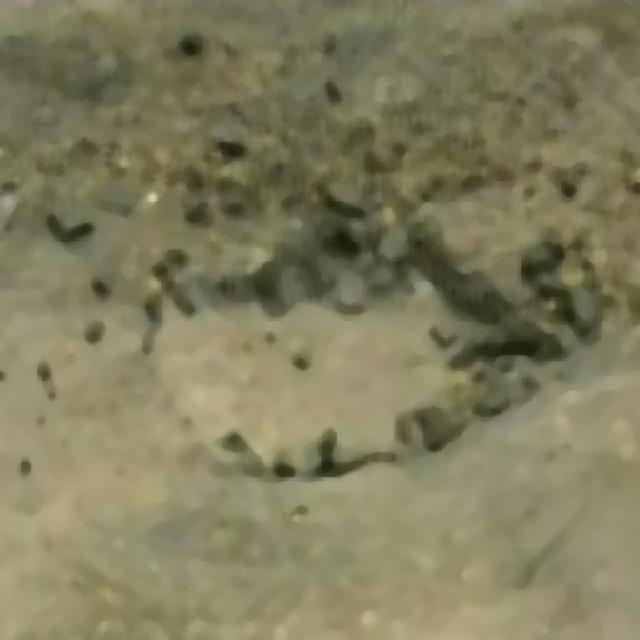Pothole: (163, 234, 532, 483)
